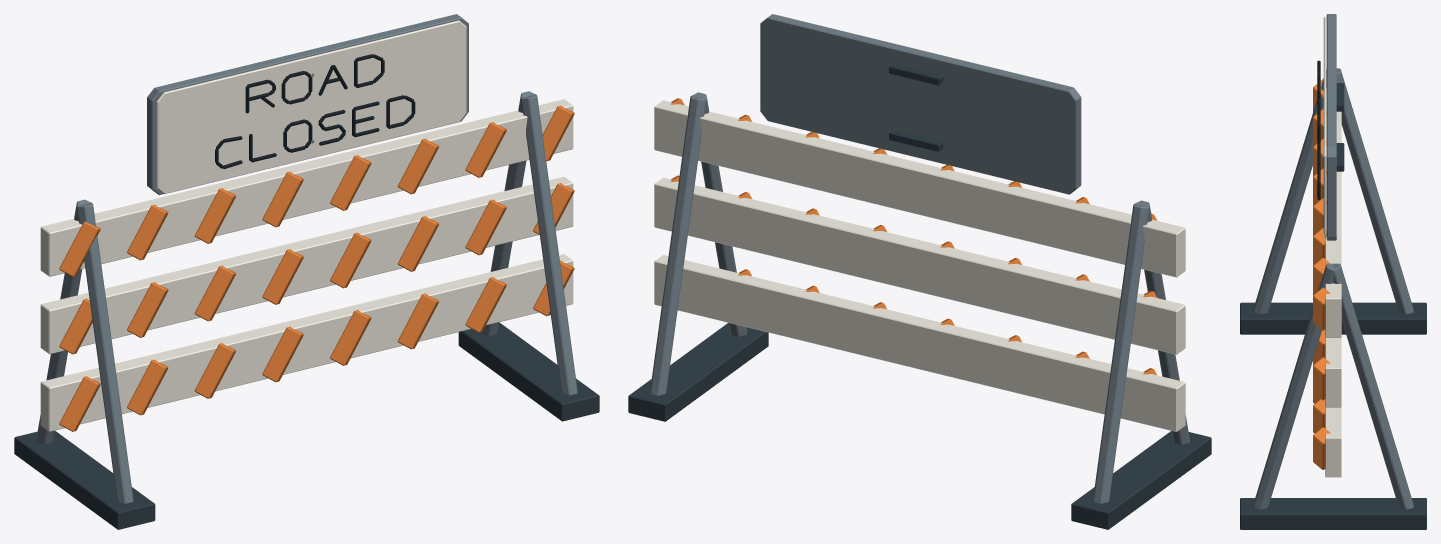
File: b02_road_closed_barricade.glb
3 views of the same model, side by side, from view 1: azimuth 30°, elevation 25°; view 2: azimuth 150°, elevation 25°; view 3: azimuth 270°, elevation 25° (orthographic). The views are drawn at different scales.
Parts seen in each view (by area): view 1: b02_road_closed_barricade; view 2: b02_road_closed_barricade; view 3: b02_road_closed_barricade.
Part boxes in pixels (x1,y1,x2,y2): b02_road_closed_barricade: (14, 14, 599, 529); b02_road_closed_barricade: (628, 14, 1211, 529); b02_road_closed_barricade: (1240, 14, 1426, 529).
Bounding box in the file's own units: 2.48 × 1.73 × 0.85.
